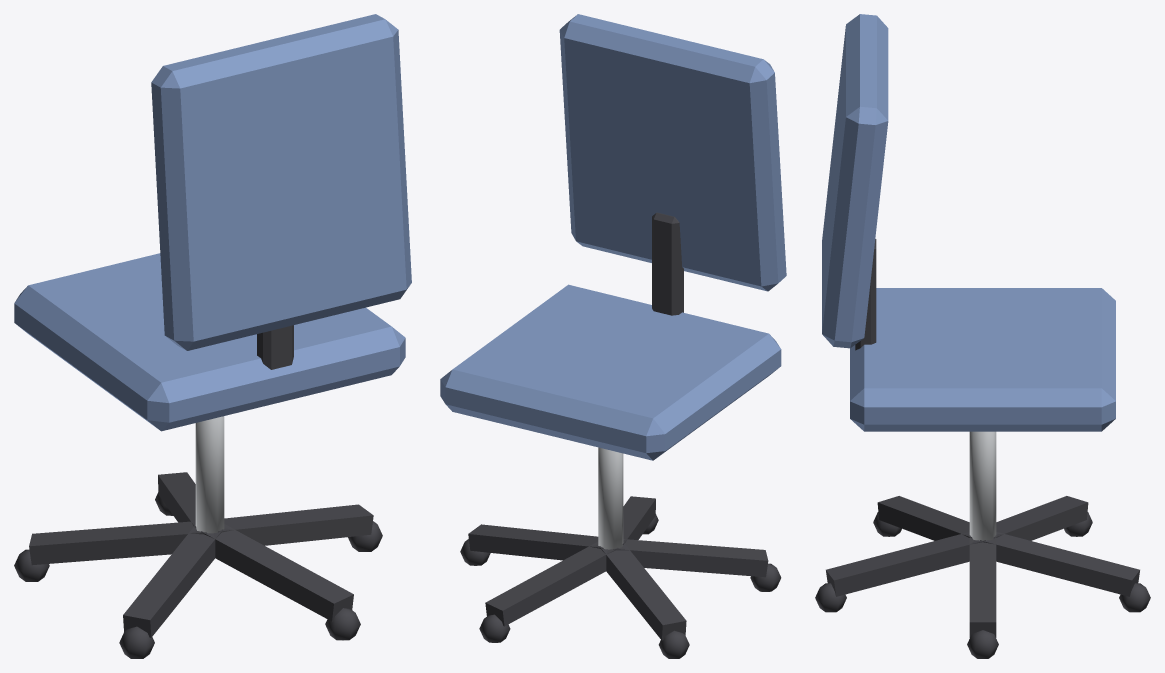
The model's file is v_bp_chair.glb.
The picture shows the model from 3 angles, left to right: view 1: azimuth 30°, elevation 25°; view 2: azimuth 150°, elevation 25°; view 3: azimuth 270°, elevation 25°; orthographic projection. The views are drawn at different scales.
Parts seen in each view (by area): view 1: Chair; view 2: Chair; view 3: Chair.
Boxes of the visible parts, box(x1,y1,x2,y2) form: Chair: box(14, 14, 411, 658); Chair: box(440, 14, 786, 658); Chair: box(815, 14, 1150, 658).
Size of the model in its own units: 0.5947 by 1.1 by 0.6306.
